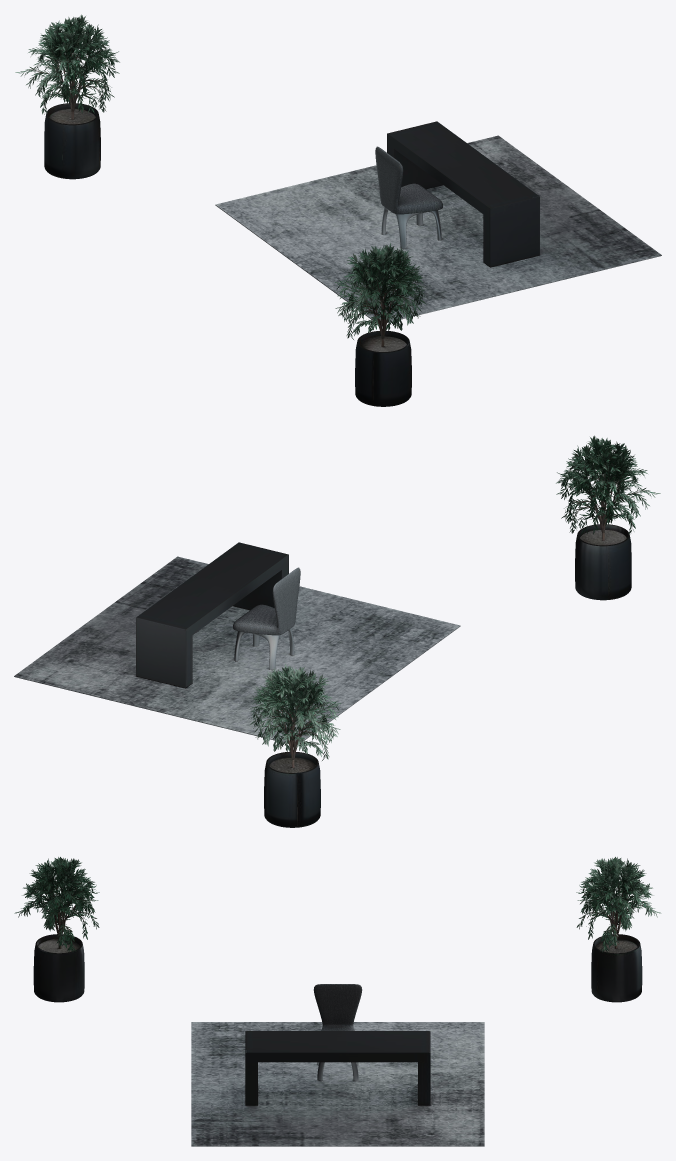
File: ceooffice.glb
3 renders of one model, top to bottom at view 1: azimuth 30°, elevation 25°; view 2: azimuth 150°, elevation 25°; view 3: azimuth 270°, elevation 25°, orthographic. The views are drawn at different scales.
Parts seen in each view (by area): view 1: Minimalistic Modern Office, Carpet; view 2: Minimalistic Modern Office, Carpet; view 3: Carpet, Minimalistic Modern Office.
Boxes of the visible parts, bbox=[...] form: Minimalistic Modern Office: bbox=[15, 14, 539, 406]; Carpet: bbox=[215, 135, 661, 322]; Minimalistic Modern Office: bbox=[136, 435, 660, 827]; Carpet: bbox=[14, 556, 460, 743]; Carpet: bbox=[191, 1022, 484, 1146]; Minimalistic Modern Office: bbox=[14, 857, 661, 1105].
Size of the model in its own units: 5.66 by 2 by 8.9.
4 materials, 4 textured.
